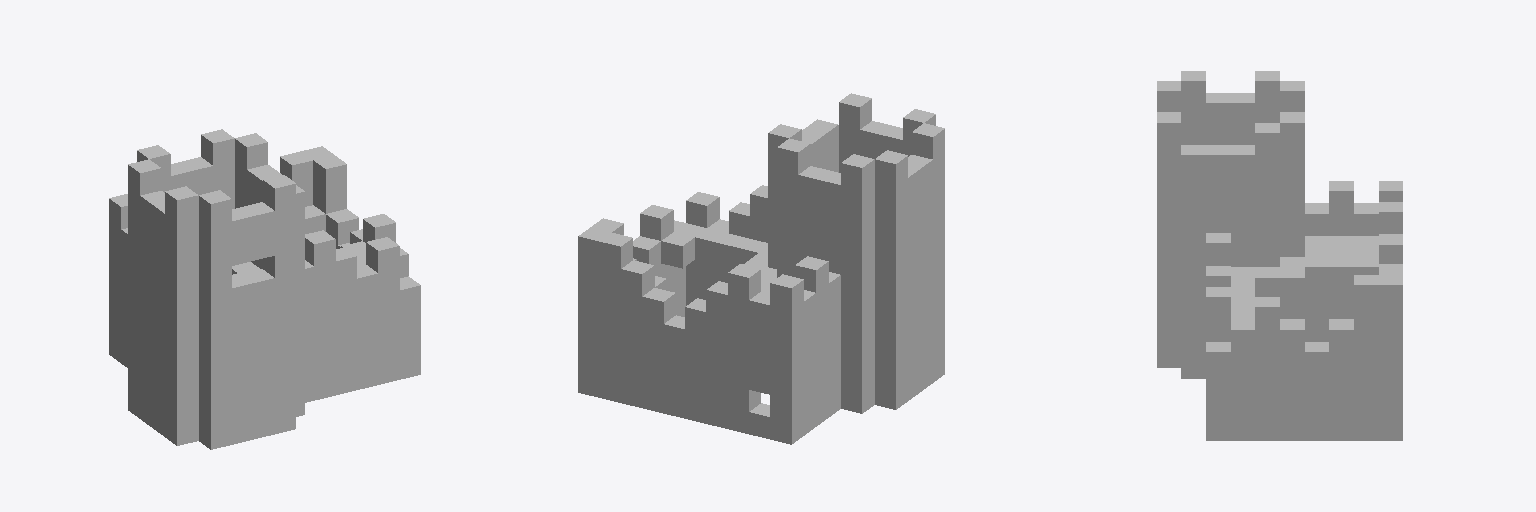
File: mesh_fort_orc_w.obj
3 views of the same model, side by side, from view 1: azimuth 30°, elevation 25°; view 2: azimuth 150°, elevation 25°; view 3: azimuth 270°, elevation 25° (orthographic).
Size of the model in its own units: 0.375 by 0.3438 by 0.3125.